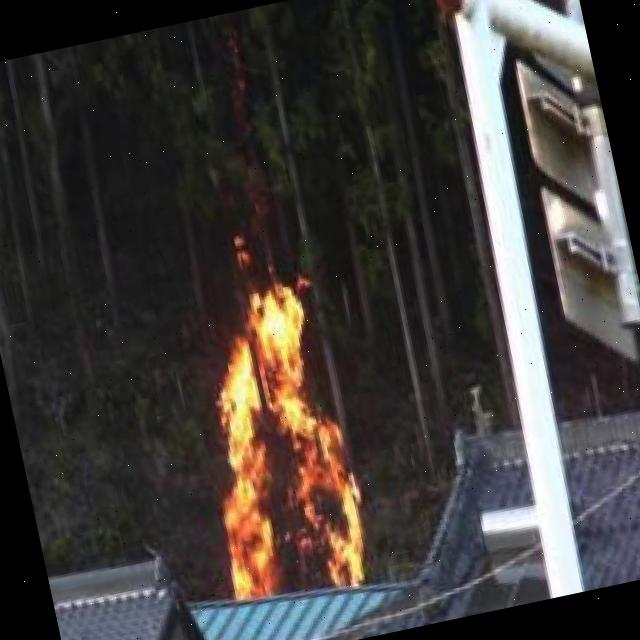fire: (168, 260, 388, 610)
